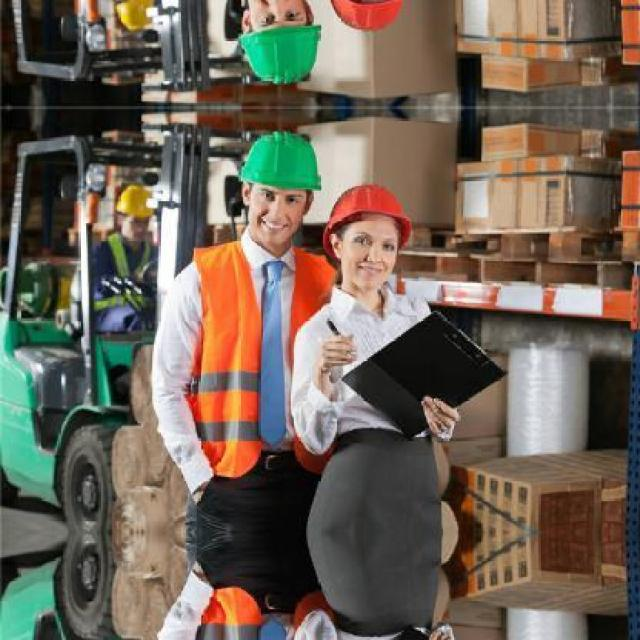hat: (323, 182, 412, 264), (236, 122, 327, 196)
